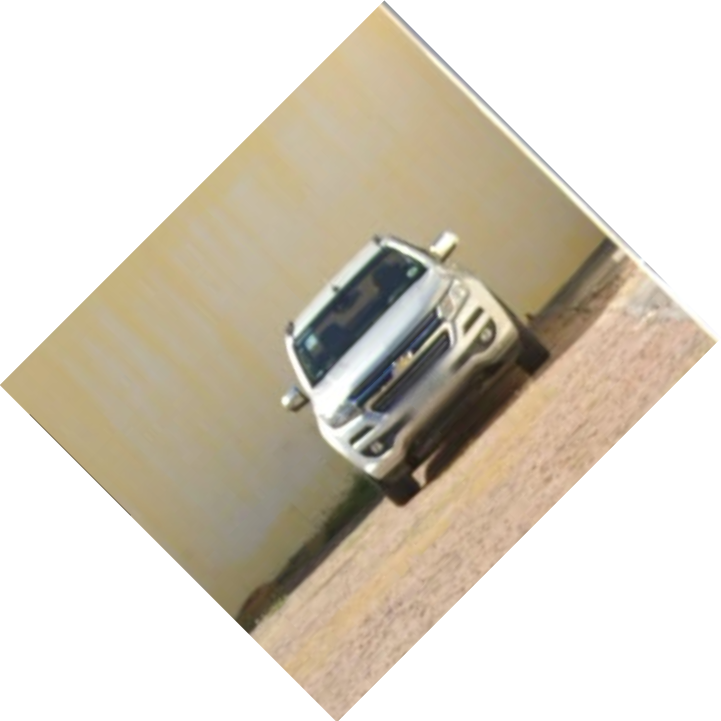car: (274, 229, 557, 513)
